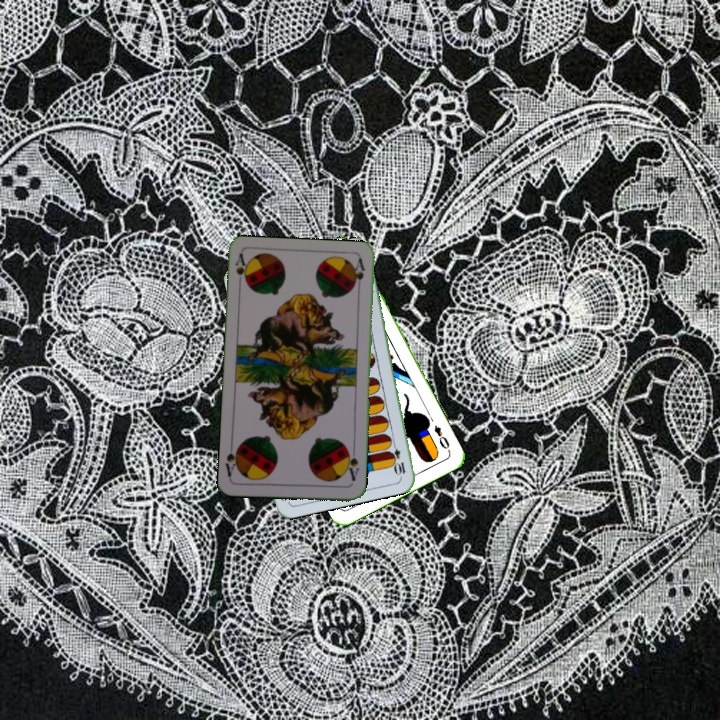E10: (387, 437, 408, 478)
EO: (430, 421, 453, 454)
SA: (231, 251, 251, 291), (342, 444, 362, 483)
